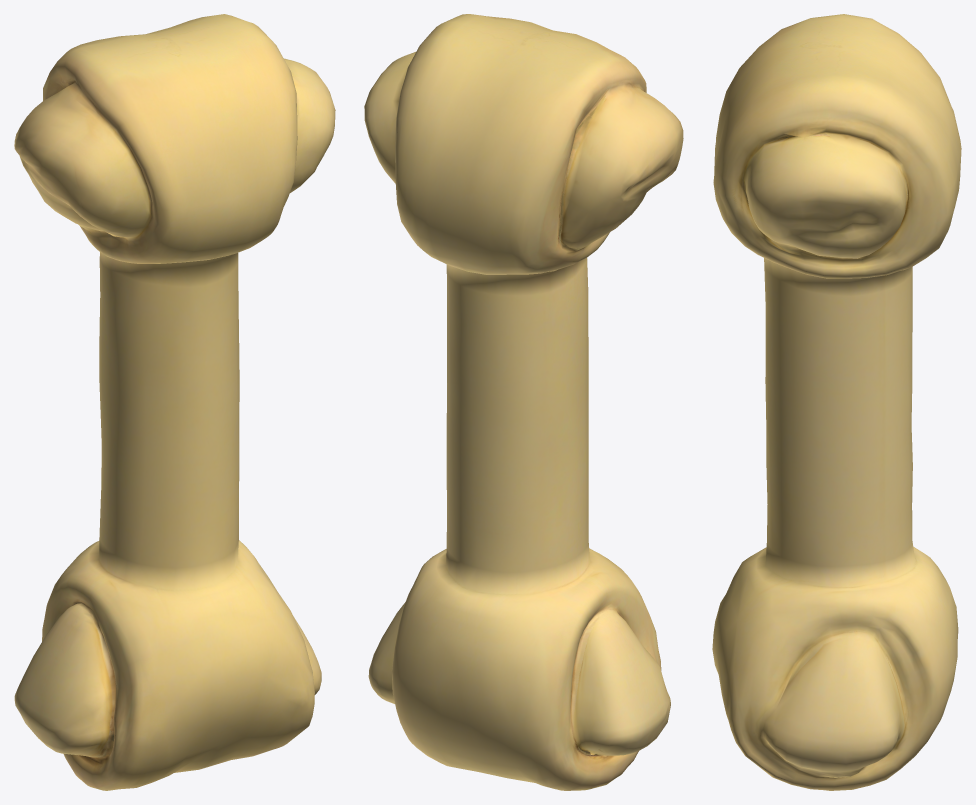
The model's file is Bone_Plush_0730054454_texture.fbx.
The picture shows the model from 3 angles, left to right: view 1: azimuth 30°, elevation 25°; view 2: azimuth 150°, elevation 25°; view 3: azimuth 270°, elevation 25°; orthographic projection. The views are drawn at different scales.
Visible parts, largest first — view 1: input; view 2: input; view 3: input.
Boxes of the visible parts, bbox=[...] form: input: bbox=[14, 14, 335, 790]; input: bbox=[364, 14, 683, 790]; input: bbox=[712, 14, 961, 790].
Size of the model in its own units: 82.75 by 200 by 63.24.
Materials: 1 (1 with a texture image).
